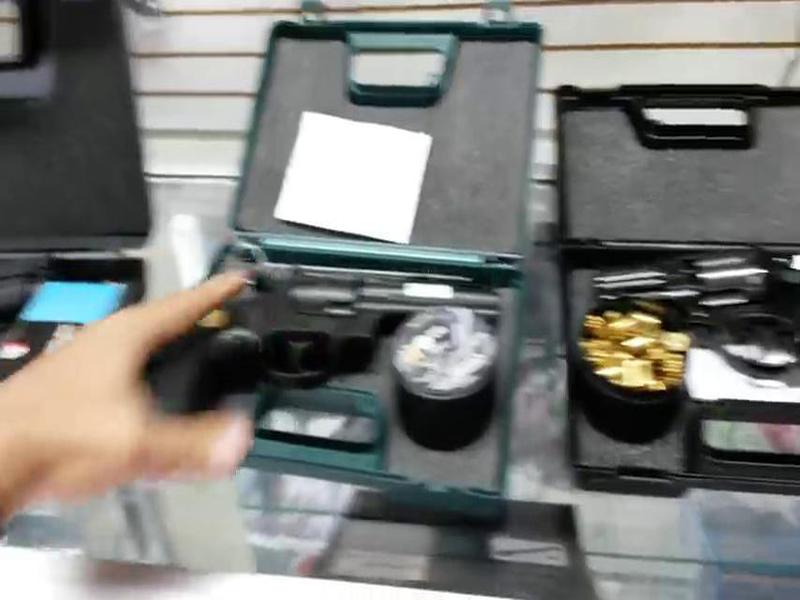Revolver: (164, 206, 533, 431)
